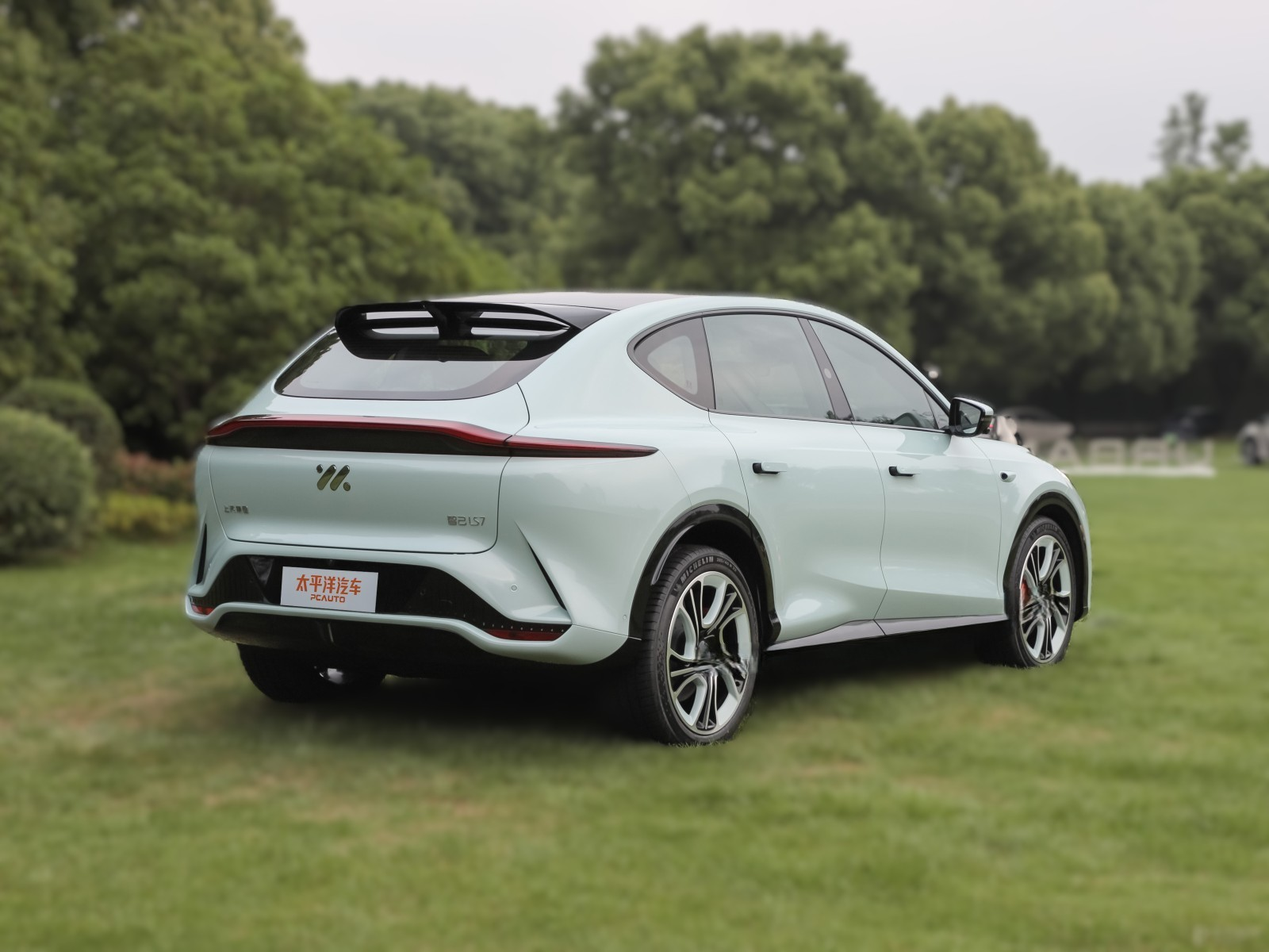IM: (316, 466, 351, 491)
